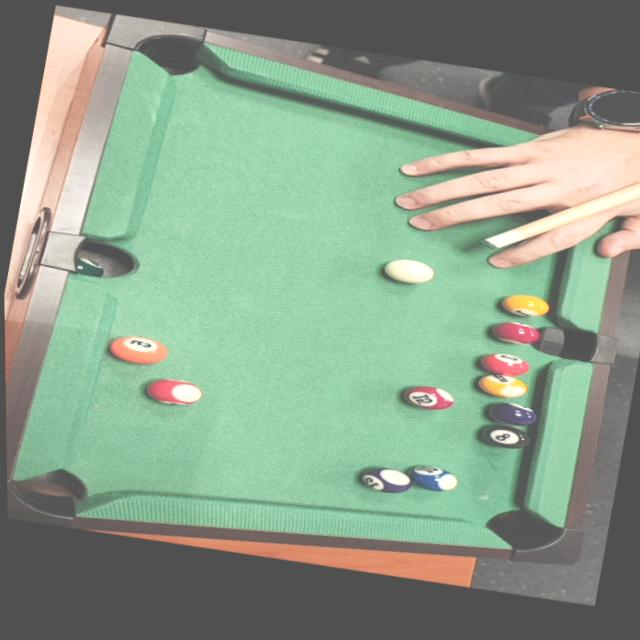cue ball: (372, 250, 440, 291)
other: (102, 327, 173, 371), (142, 372, 205, 414), (394, 377, 459, 417), (353, 459, 414, 500), (480, 395, 544, 433), (471, 346, 533, 384), (403, 461, 464, 497), (494, 286, 553, 323), (474, 420, 532, 456), (487, 316, 543, 353), (476, 370, 529, 405)
